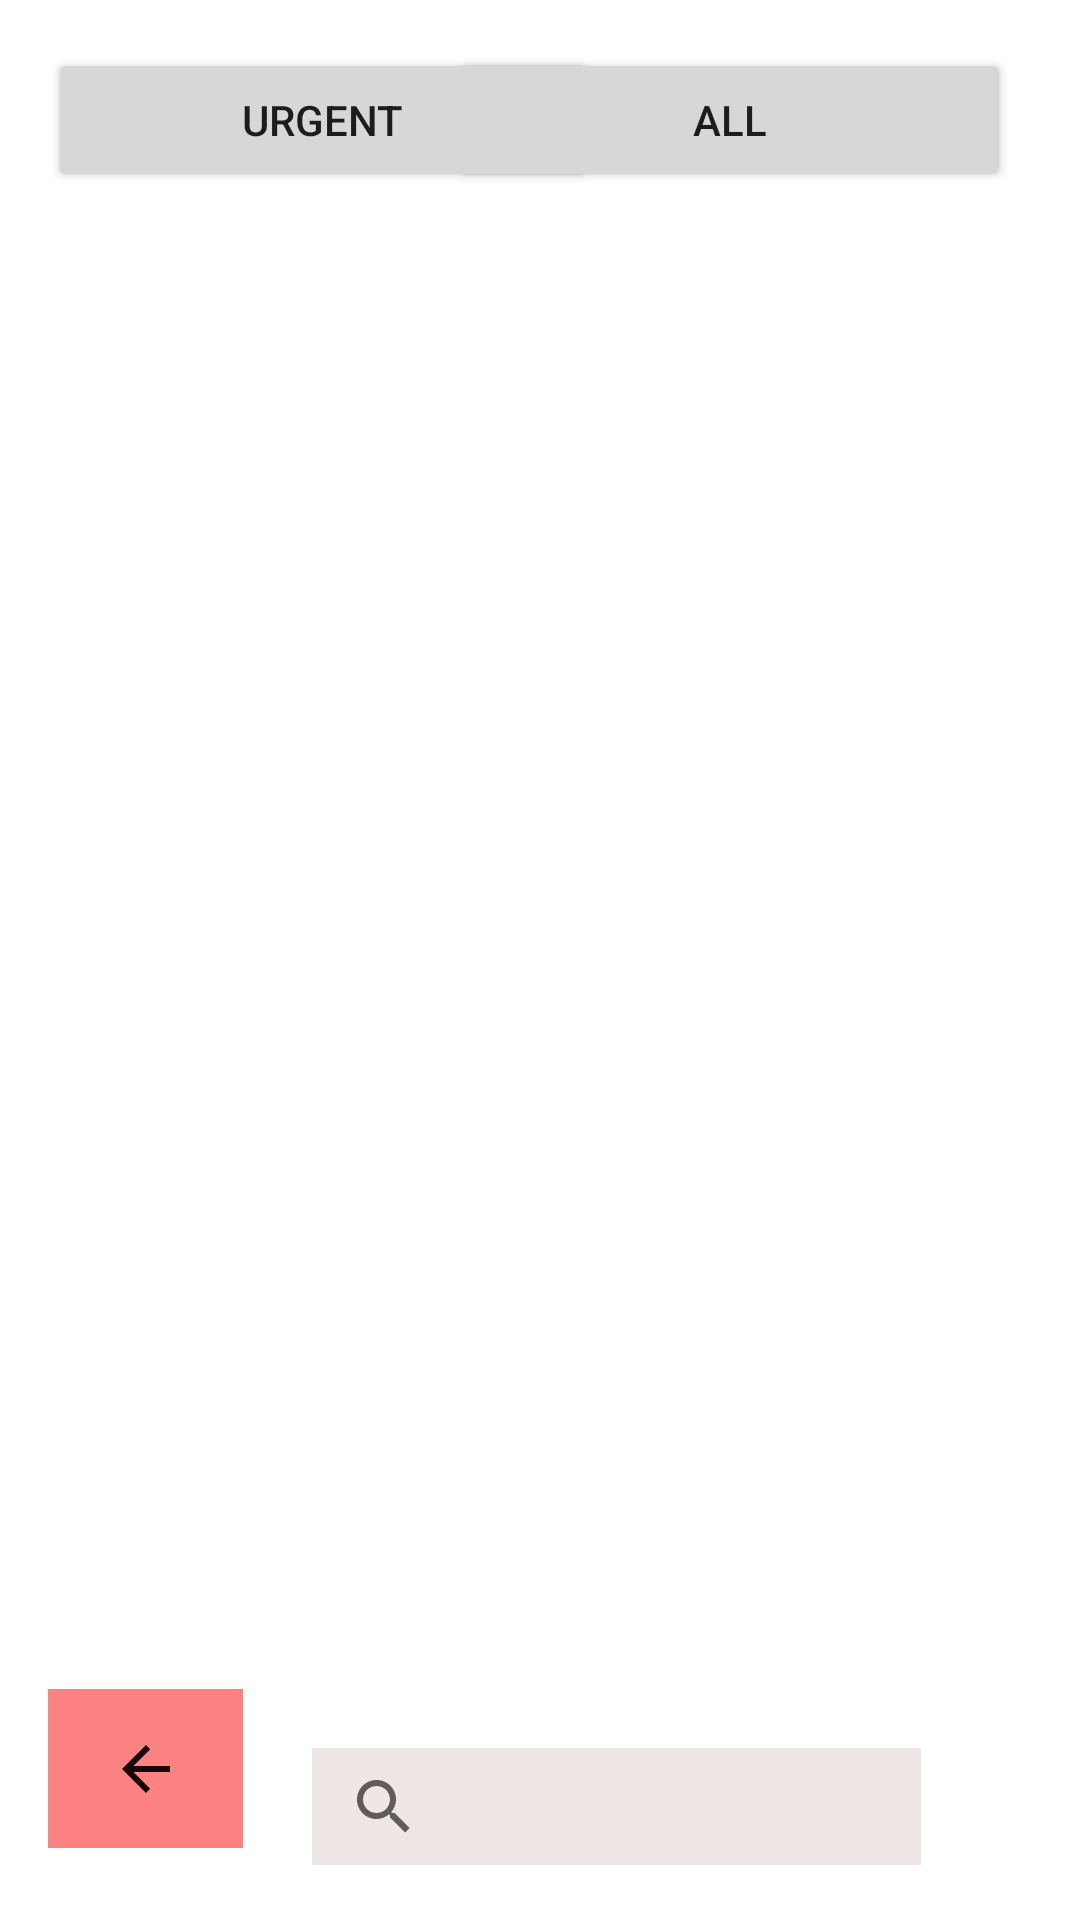

Point at icon controls on the screen. Image size 1080 × 1920, points as (x=x, y=y).
Back: (x=145, y=1768)
